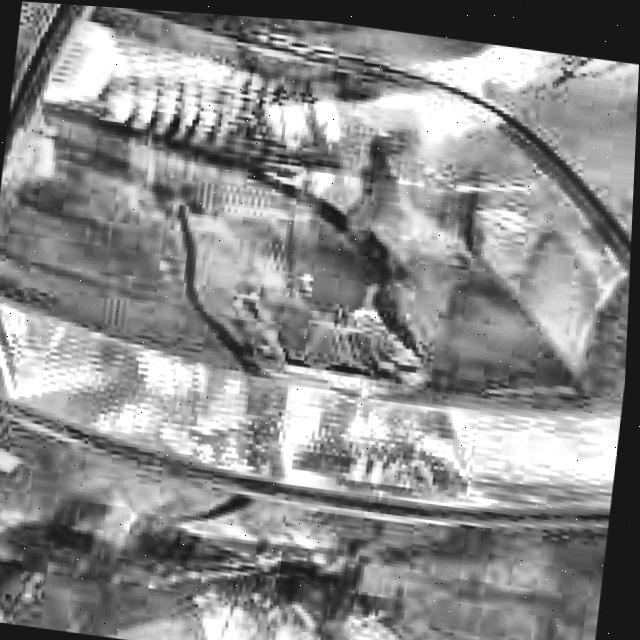tail_lamp: (21, 7, 640, 525)
